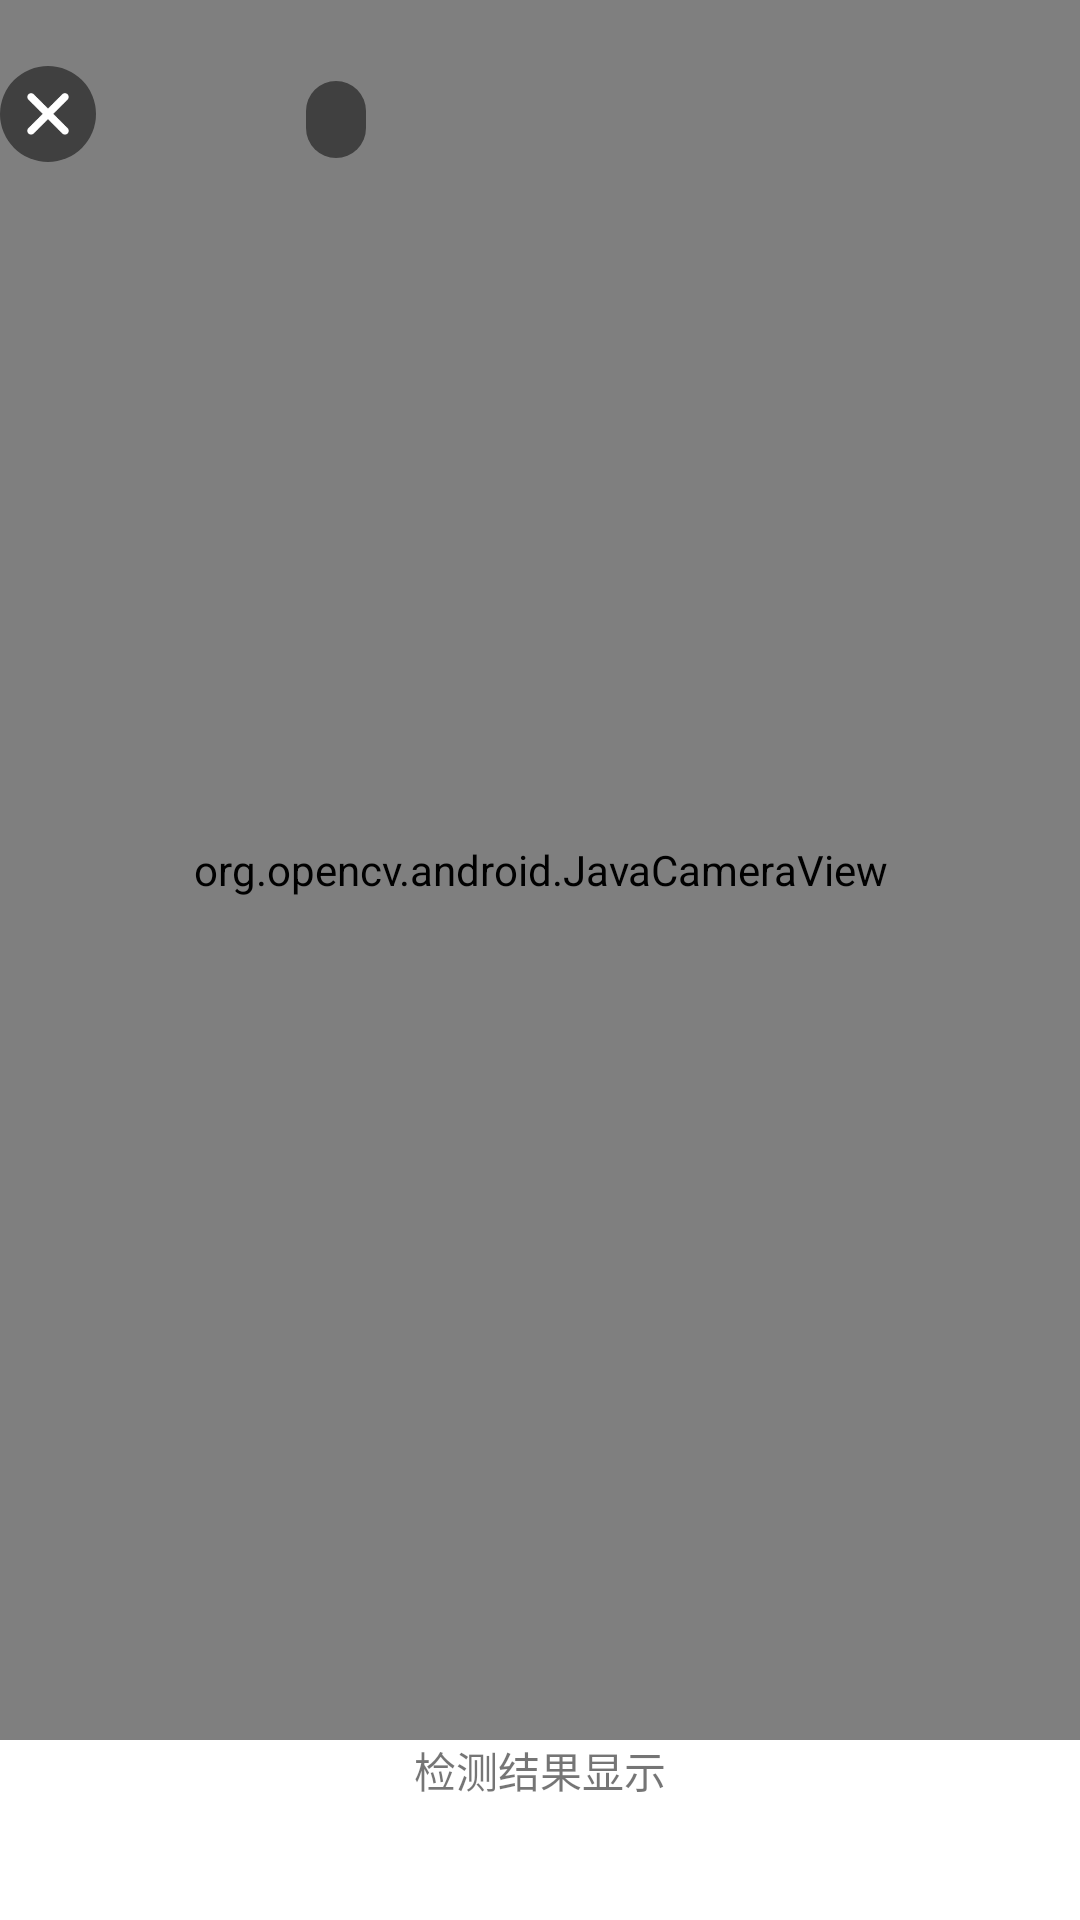

Named icons in this screenshot (1080 × 1920) and their centers, [x,y]:
cancel: [48,114]
